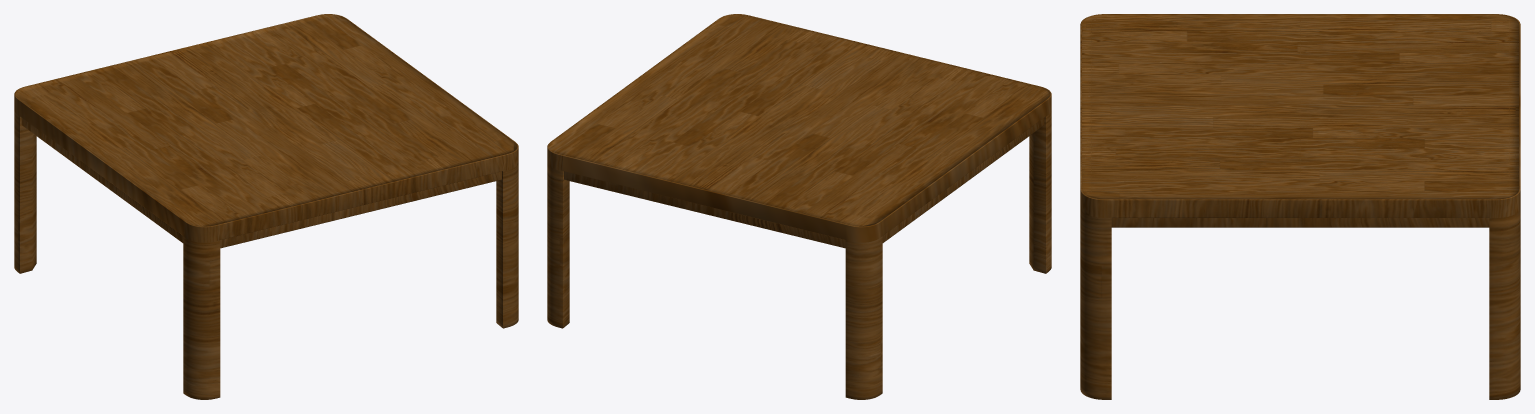
File: mesita.fbx
3 renders of one model, left to right at view 1: azimuth 30°, elevation 25°; view 2: azimuth 150°, elevation 25°; view 3: azimuth 270°, elevation 25°, orthographic. The views are drawn at different scales.
Parts seen in each view (by area): view 1: Cube, Cube.002; view 2: Cube, Cube.002; view 3: Cube, Cube.002.
Boxes of the visible parts, left/top/right/bottom form: Cube: left=14, top=14, right=518, bottom=399; Cube.002: left=21, top=118, right=501, bottom=248; Cube: left=547, top=14, right=1051, bottom=399; Cube.002: left=564, top=118, right=1044, bottom=248; Cube: left=1080, top=14, right=1520, bottom=399; Cube.002: left=1111, top=218, right=1489, bottom=227.
Size of the model in its own units: 70 by 35.1 by 70.
1 material, 1 textured.
